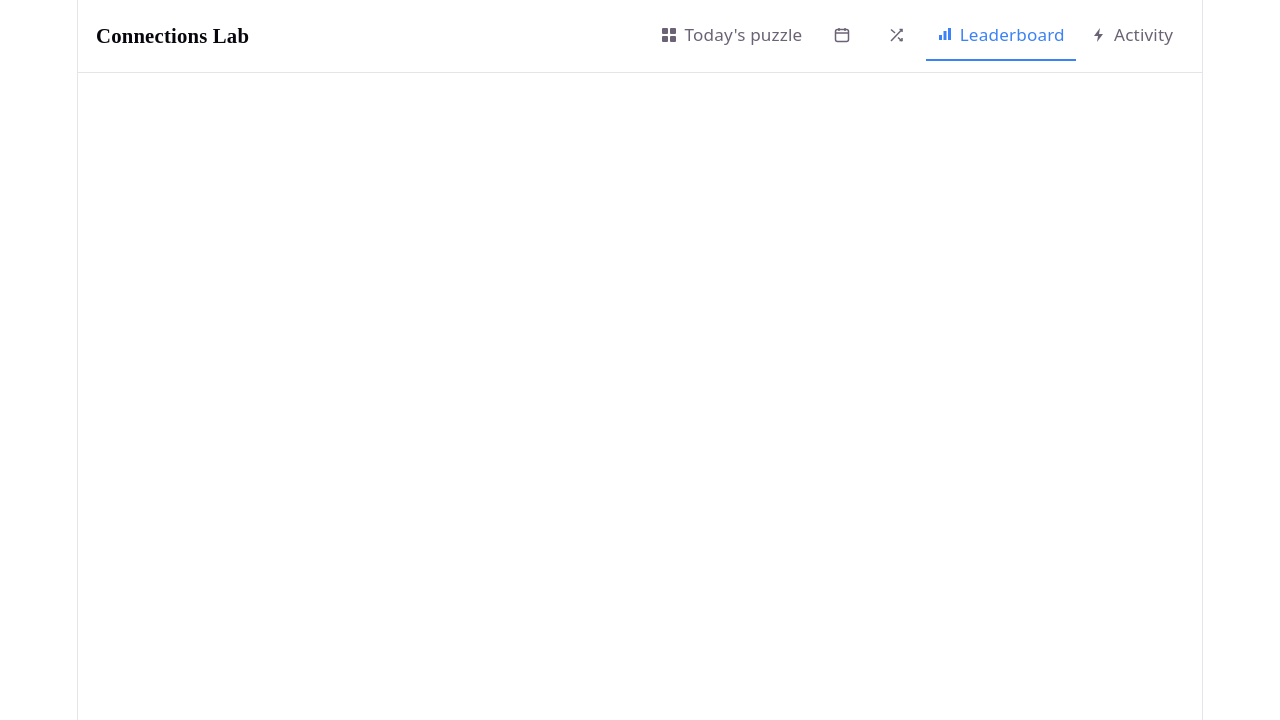
Test: Header › navigates to a random puzzle from the shuffle icon
Step 1. Click the button named "Random puzzle" → (896, 36), box [876,16,917,56]
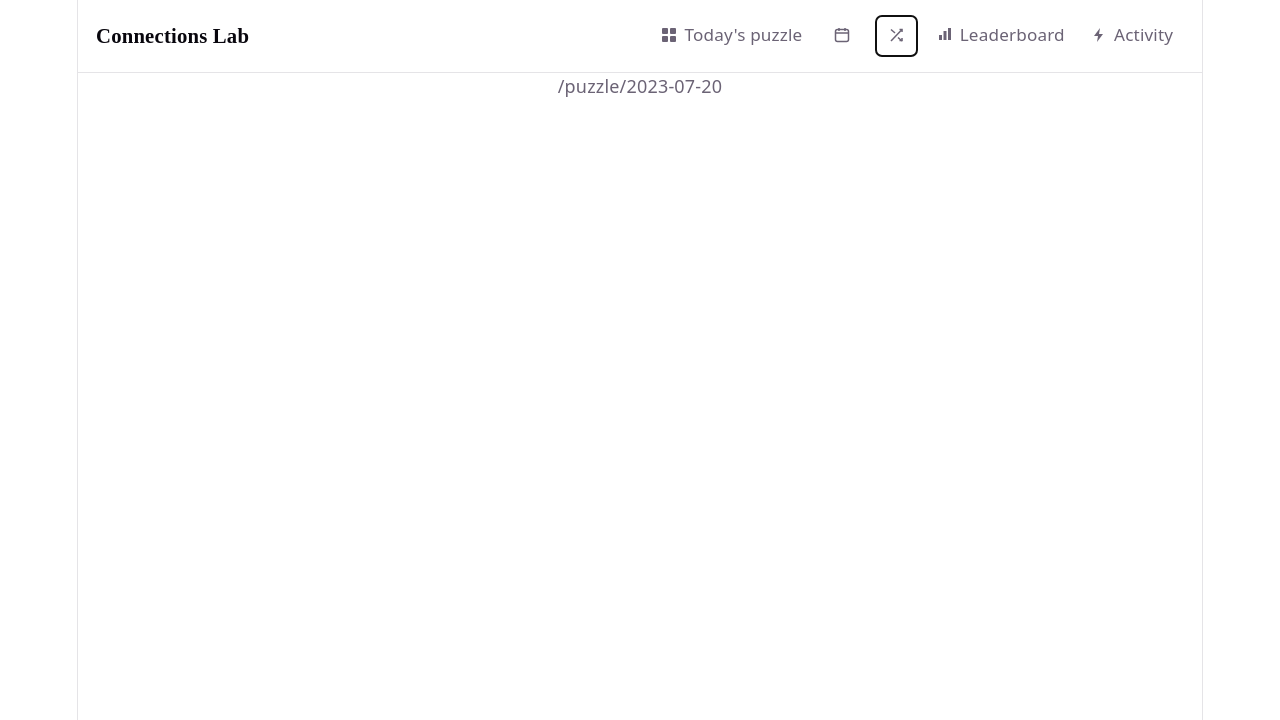
Check: the text "/puzzle/2023-07-20" is shown, box [558,74,722,98]
